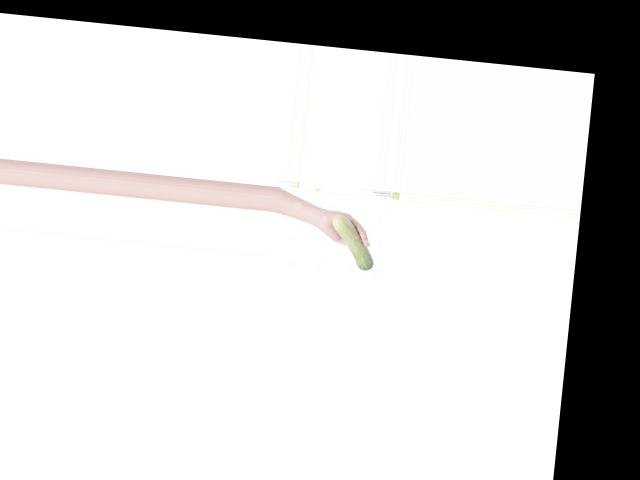cucumber: (327, 213, 376, 270)
